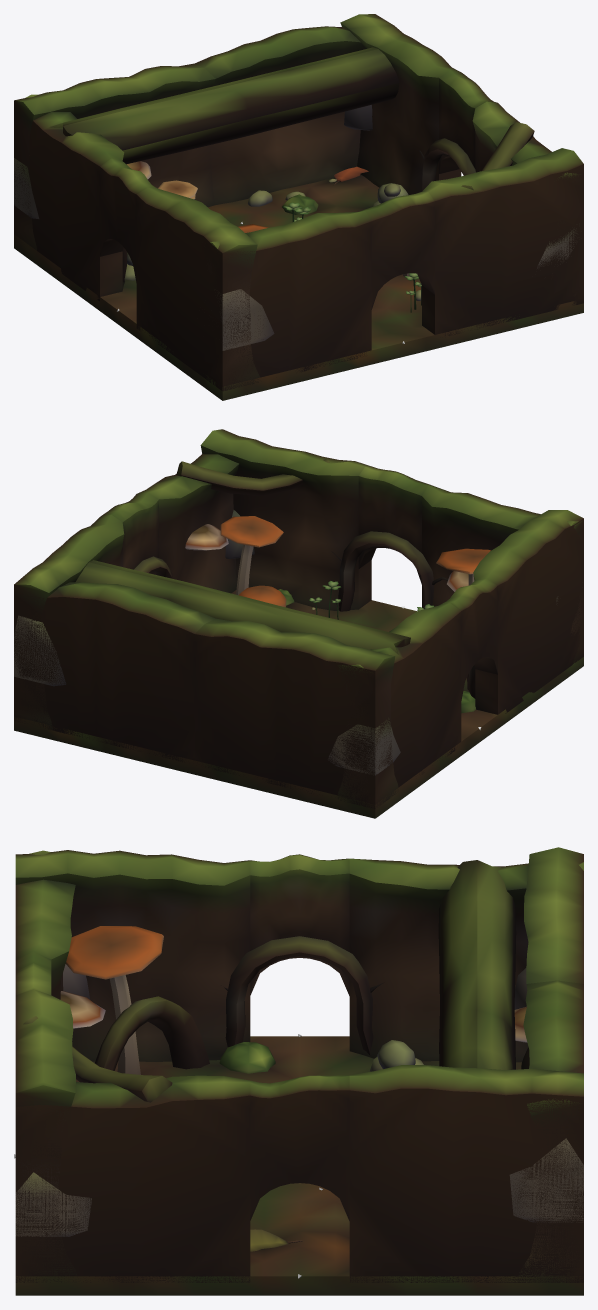
The model's file is mossy_arena_large.fbx.
3 renders of one model, top to bottom at view 1: azimuth 30°, elevation 25°; view 2: azimuth 150°, elevation 25°; view 3: azimuth 270°, elevation 25°, orthographic. The views are drawn at different scales.
Visible parts, largest first — view 1: COL_WallS_01, COL_WallS_02, COL_WallW_01, COL_Floor, COL_WallN_02, COL_Log_03, COL_WallW_02, COL_WallE_01, COL_WallN_01, COL_WallS_03, COL_Log_04, COL_WallW_03 (+9 smaller); view 2: COL_WallN_01, COL_WallN_02, COL_WallS_01, COL_WallW_01, COL_WallW_02, COL_Floor, COL_WallE_02, COL_WallS_02, COL_WallE_01, COL_Log_02, COL_WallS_03, COL_WallW_03 (+11 smaller); view 3: COL_WallE_01, COL_WallE_02, COL_WallW_01, COL_Floor, COL_WallW_02, COL_WallE_03, COL_WallN_02, COL_WallS_01, COL_WallW_03, COL_WallN_01, COL_Log_02, COL_Log_03 (+13 smaller).
Boxes of the visible parts, x1,y1,x2,y2 form: COL_WallS_01: [422, 148, 583, 335]; COL_WallS_02: [207, 211, 371, 385]; COL_WallW_01: [136, 187, 259, 391]; COL_Floor: [14, 174, 583, 400]; COL_WallN_02: [195, 26, 363, 205]; COL_Log_03: [63, 49, 399, 150]; COL_WallW_02: [25, 94, 124, 301]; COL_WallE_01: [340, 14, 461, 194]; COL_WallN_01: [14, 63, 215, 250]; COL_WallS_03: [360, 192, 434, 309]; COL_Log_04: [122, 83, 399, 164]; COL_WallW_03: [100, 158, 158, 282]; COL_WallN_01: [194, 618, 398, 808]; COL_WallN_02: [14, 582, 215, 762]; COL_WallS_01: [200, 429, 371, 610]; COL_WallW_01: [473, 510, 583, 714]; COL_WallW_02: [337, 603, 461, 808]; COL_Floor: [14, 590, 583, 818]; COL_WallE_02: [137, 454, 239, 593]; COL_WallS_02: [422, 485, 583, 662]; COL_WallE_01: [14, 514, 124, 730]; COL_Log_02: [75, 562, 404, 654]; COL_WallS_03: [358, 466, 433, 584]; COL_WallW_03: [439, 578, 497, 700]; COL_WallE_01: [349, 1065, 583, 1282]; COL_WallE_02: [15, 1075, 250, 1282]; COL_WallW_01: [15, 850, 250, 1061]; COL_Floor: [15, 1036, 583, 1295]; COL_WallW_02: [349, 858, 583, 1062]; COL_WallE_03: [250, 1075, 349, 1220]; COL_WallN_02: [517, 980, 583, 1282]; COL_WallS_01: [15, 989, 76, 1282]; COL_WallW_03: [250, 854, 349, 995]; COL_WallN_01: [521, 847, 583, 1069]; COL_Log_02: [477, 860, 516, 1070]; COL_Log_03: [438, 860, 477, 1068].
Bounding box in the file's own units: 16100 × 6746 × 16050.
